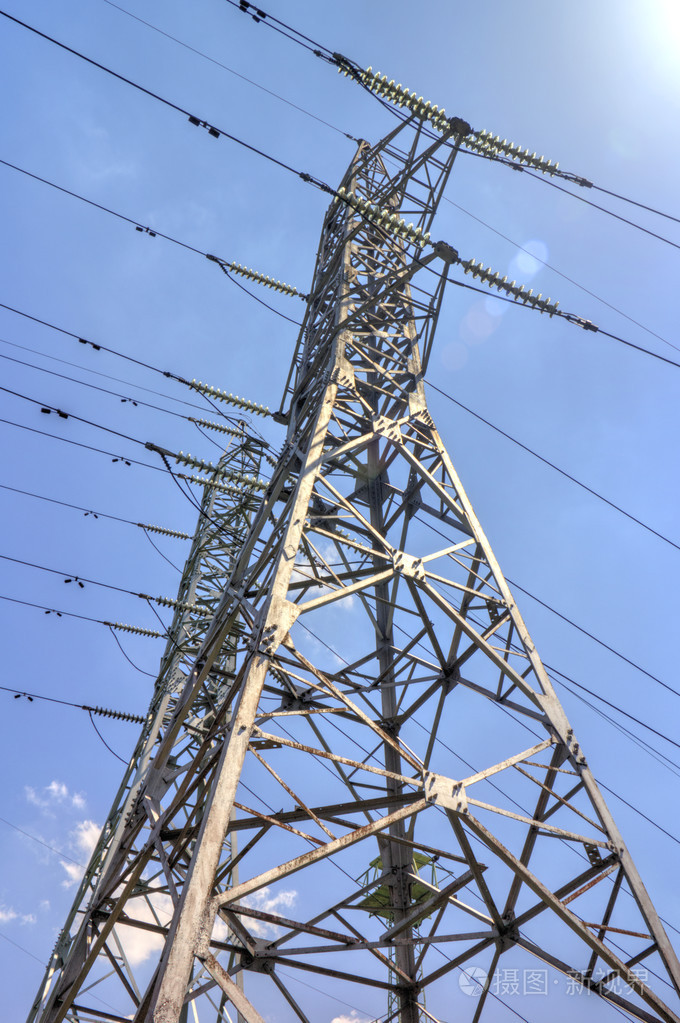insulator: (339, 63, 445, 132), (463, 254, 563, 320), (334, 184, 433, 249), (176, 453, 260, 501), (470, 133, 557, 178), (187, 380, 272, 420), (226, 258, 302, 299)
